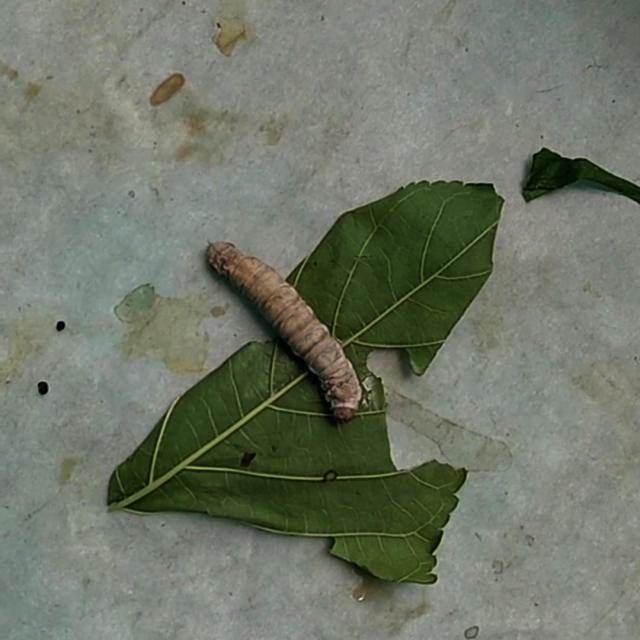Grasserie: (199, 222, 384, 432)
